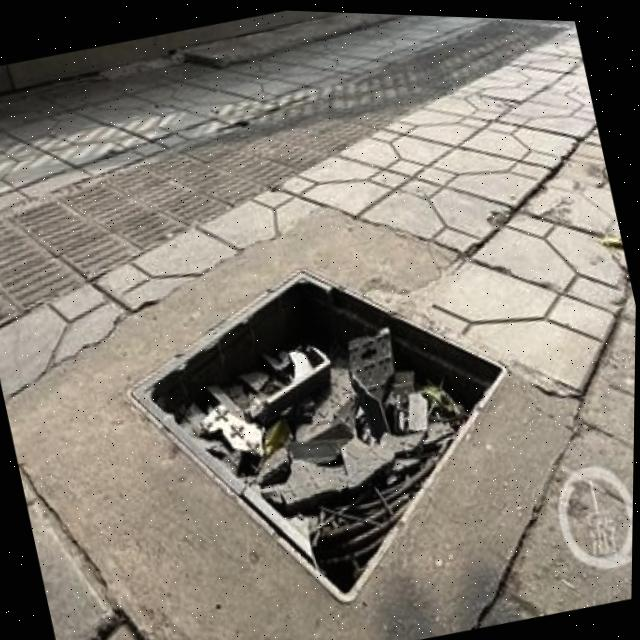manhole: (110, 223, 553, 640)
